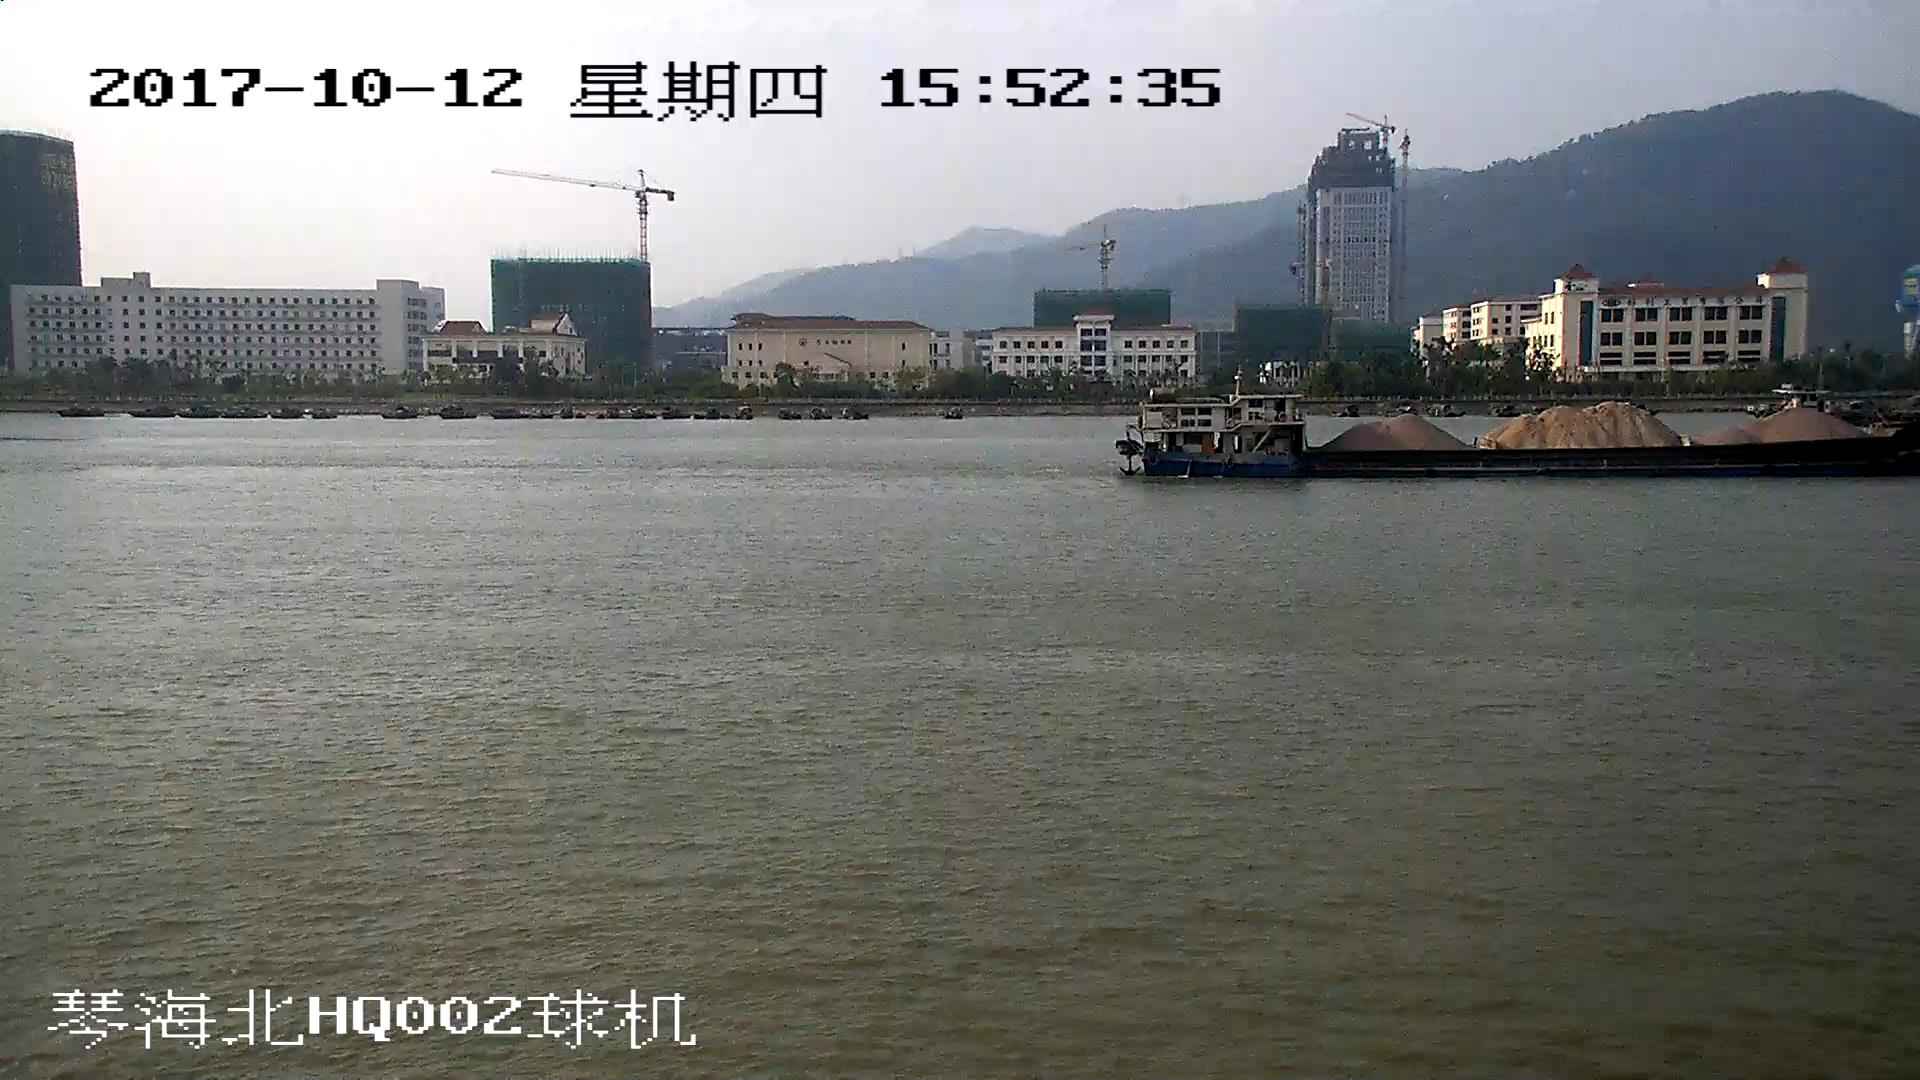ore carrier: (1121, 379, 1920, 481)
